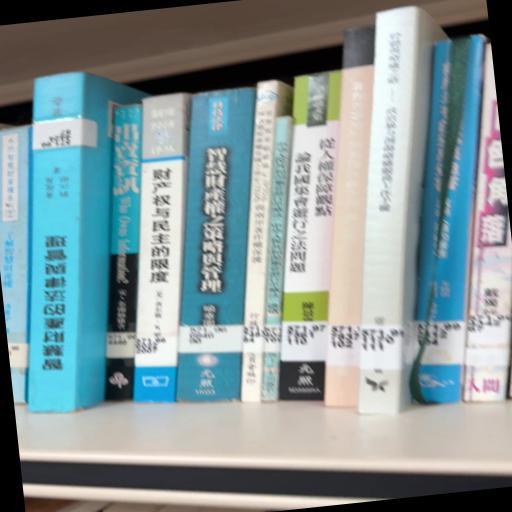reverse: (29, 73, 148, 413)
